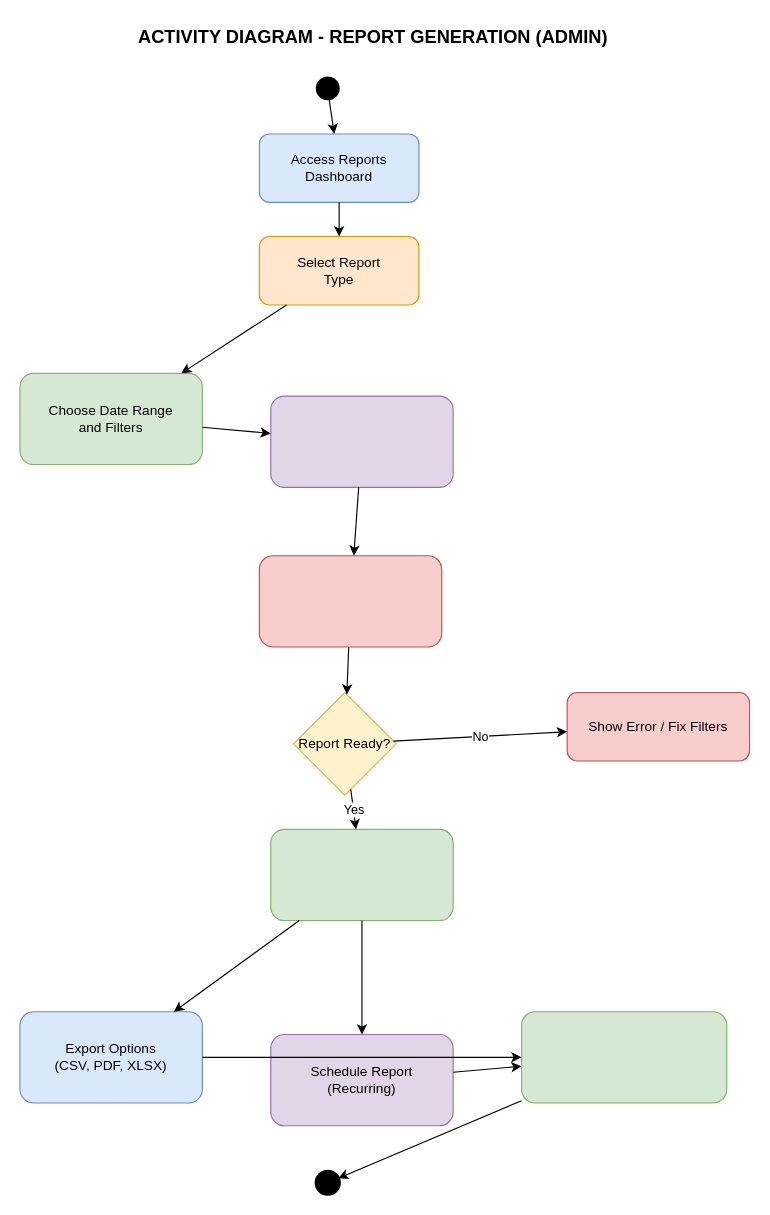
Image size: 770x1215. Some labels were removed from this diagram. Each missing label, with the centre of its shape:
Display Report Preview: the point at 361,874
Generate Report (Run Query / Aggregate): the point at 350,601
Preview / Customize Report: the point at 361,441
Send Report via Email / Download: the point at 623,1057
